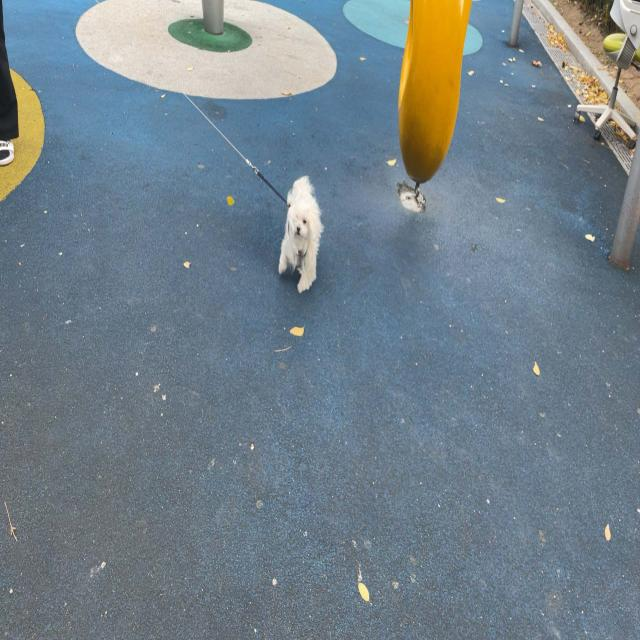Dog: (277, 176, 325, 292)
